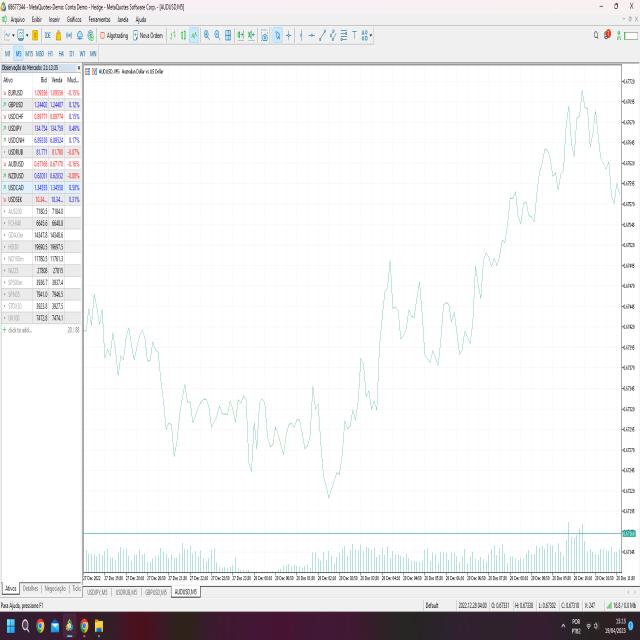topo_duplo: (368, 213, 432, 428), (558, 75, 608, 220)
